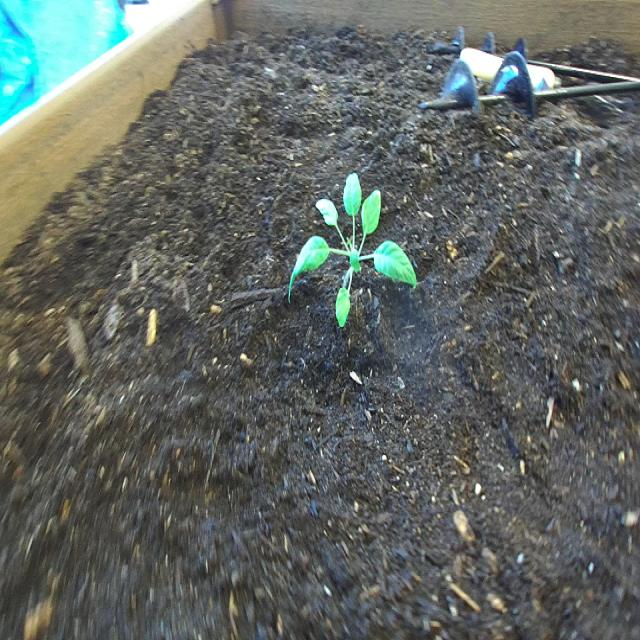Healthy: (279, 160, 423, 346)
